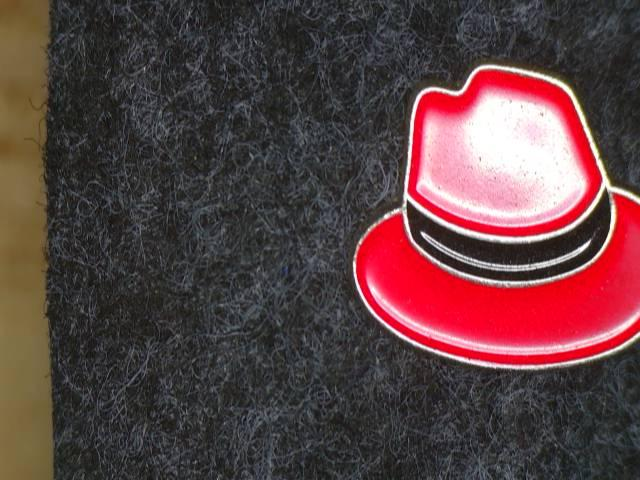Red-Hat: (296, 47, 640, 405)
